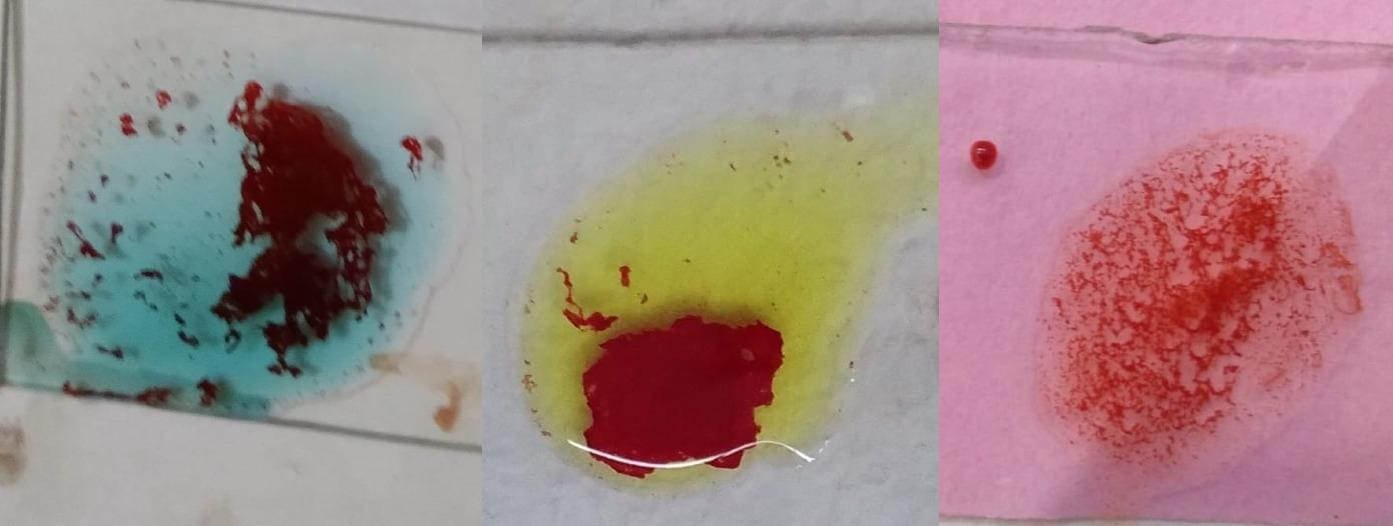A: (66, 32, 425, 398)
B: (525, 113, 866, 483)
D: (1044, 141, 1353, 483)
